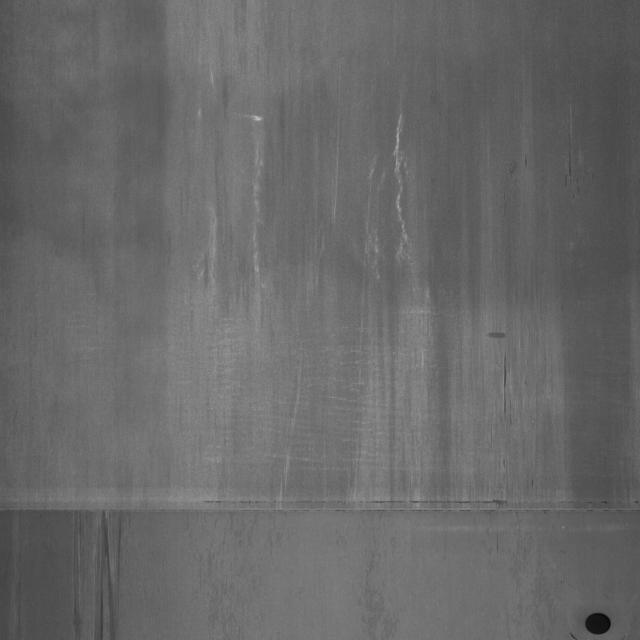crease: (2, 475, 638, 539)
crescent_gap: (584, 606, 612, 639)
